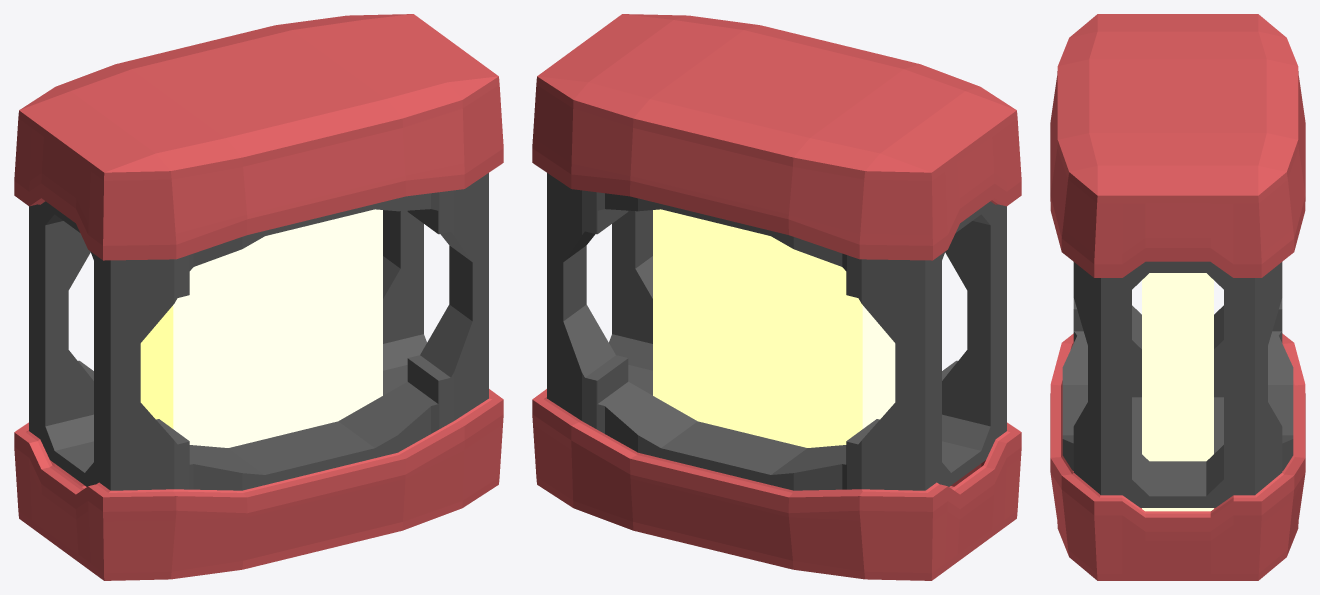
3 views of the same model, side by side, from view 1: azimuth 30°, elevation 25°; view 2: azimuth 150°, elevation 25°; view 3: azimuth 270°, elevation 25° (orthographic). The views are drawn at different scales.
Visible parts, largest first — view 1: Cube.018, Cube.014, Cube.017; view 2: Cube.018, Cube.014, Cube.017; view 3: Cube.018, Cube.014, Cube.017.
Boxes of the visible parts, x1,y1,x2,y2 form: Cube.018: [14, 14, 503, 580]; Cube.014: [29, 173, 488, 490]; Cube.017: [140, 209, 382, 447]; Cube.018: [532, 14, 1021, 580]; Cube.014: [547, 173, 1006, 490]; Cube.017: [653, 209, 895, 447]; Cube.018: [1050, 14, 1305, 580]; Cube.014: [1062, 261, 1293, 507]; Cube.017: [1142, 273, 1213, 511].
Size of the model in its own units: 209 by 212 by 122.
